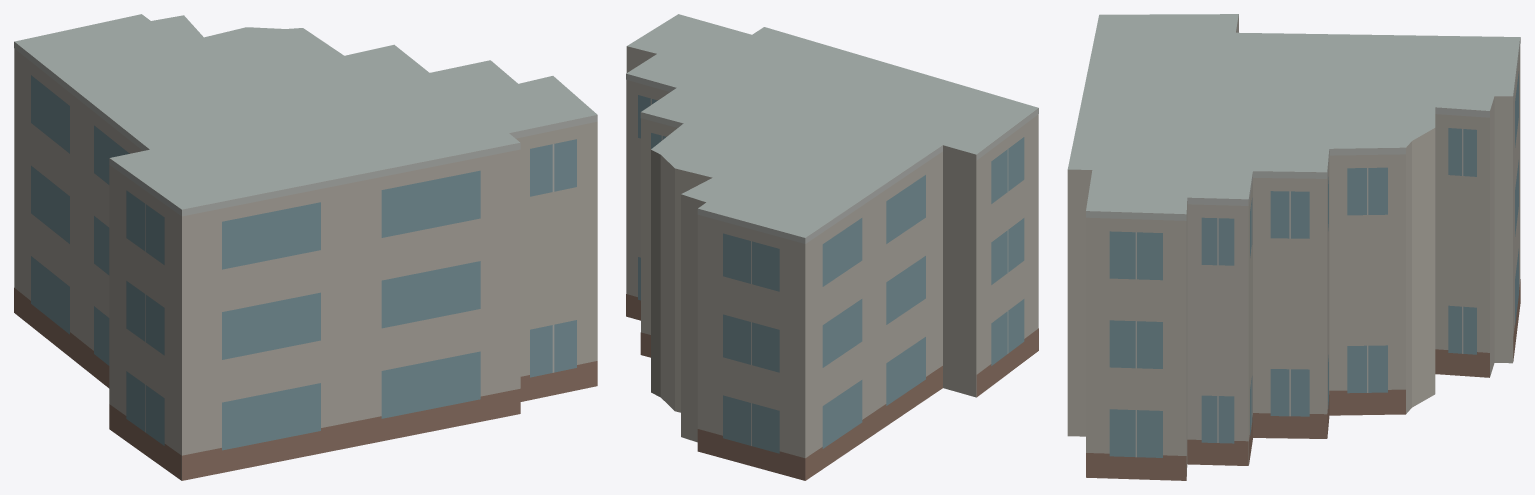
Rendered from survey-upis-32820625.glb.
3 views of the same model, side by side, from view 1: azimuth 30°, elevation 25°; view 2: azimuth 150°, elevation 25°; view 3: azimuth 270°, elevation 25° (orthographic). The views are drawn at different scales.
Visible parts, largest first — view 1: survey-upis-32820625.tmp; view 2: survey-upis-32820625.tmp; view 3: survey-upis-32820625.tmp.
Part boxes in pixels (<box>): survey-upis-32820625.tmp: <box>14,14,597,480</box>; survey-upis-32820625.tmp: <box>626,14,1038,480</box>; survey-upis-32820625.tmp: <box>1067,14,1520,480</box>.
Bounding box in the file's own units: 15.62 × 9.7 × 14.93.
